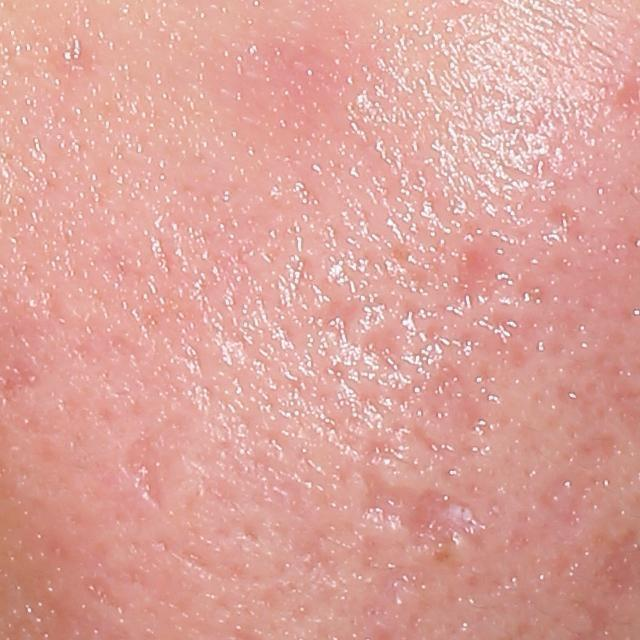atrophic_scar: (327, 463, 526, 565), (111, 411, 168, 515), (450, 237, 502, 315), (172, 544, 248, 588), (357, 326, 413, 381), (307, 296, 359, 353), (551, 199, 593, 259)
